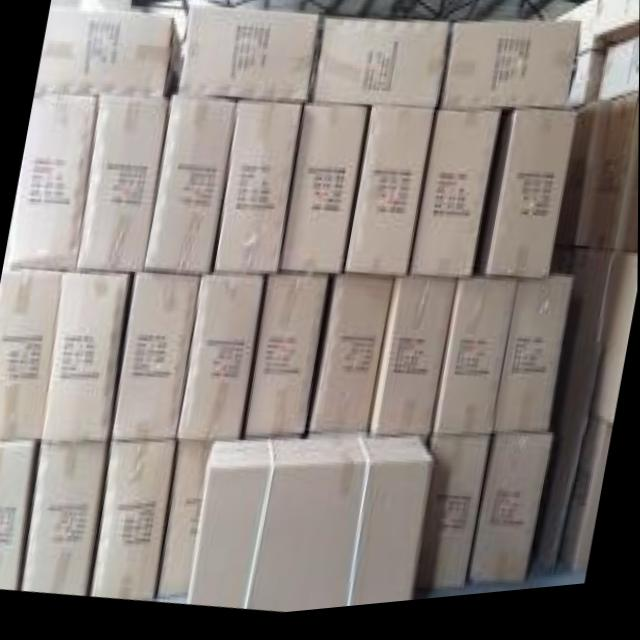box: (187, 445, 432, 617), (534, 260, 619, 580), (479, 117, 576, 295), (211, 104, 307, 280), (341, 112, 435, 287), (144, 101, 236, 279), (276, 111, 368, 283), (409, 116, 501, 288), (77, 99, 168, 272), (173, 5, 319, 111), (41, 273, 132, 443), (111, 275, 202, 444), (9, 93, 94, 271), (244, 279, 331, 448), (369, 286, 459, 446), (178, 278, 263, 447), (310, 283, 395, 446), (433, 282, 517, 446), (90, 443, 177, 601), (34, 9, 182, 101), (309, 22, 453, 116), (21, 442, 108, 595), (467, 444, 553, 597), (493, 284, 574, 446), (439, 28, 581, 120), (416, 443, 493, 597), (0, 270, 66, 442), (559, 427, 614, 589), (159, 445, 214, 602), (588, 103, 639, 261), (556, 112, 610, 258), (593, 264, 638, 435), (0, 442, 39, 588), (555, 5, 605, 65), (600, 46, 639, 111), (594, 2, 640, 56), (567, 63, 604, 123)
